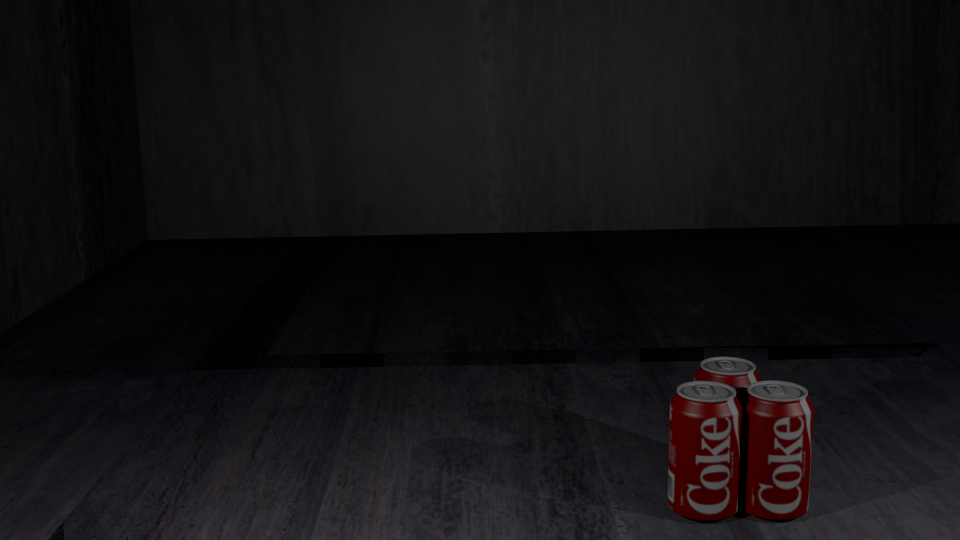cola_can: (740, 381, 813, 515), (669, 381, 741, 516), (695, 357, 760, 483)
